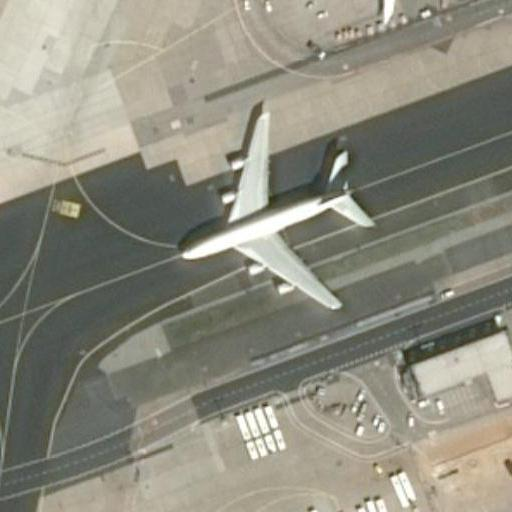Aircraft: (168, 98, 384, 317), (260, 0, 465, 23)
